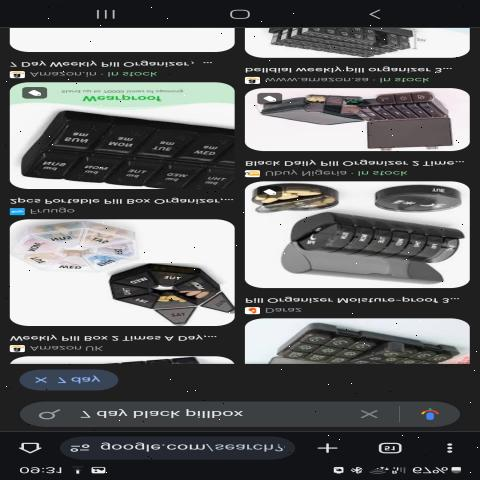PillBox: (14, 109, 236, 188), (102, 266, 245, 322)
